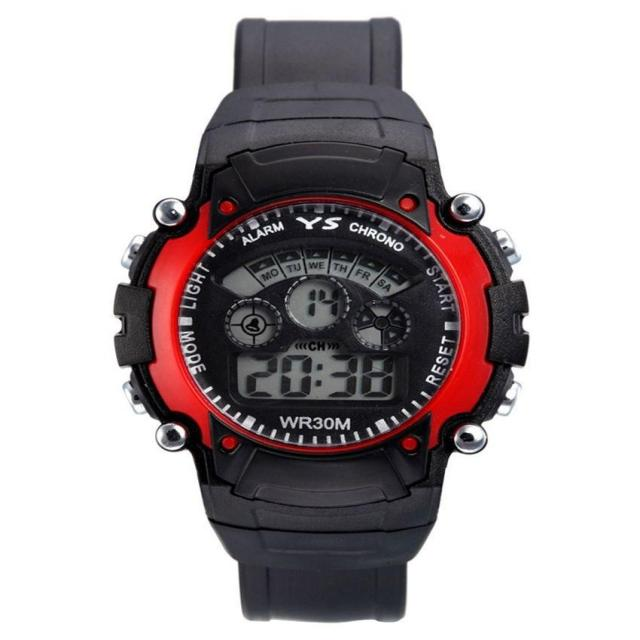watch: (129, 193, 493, 461)
